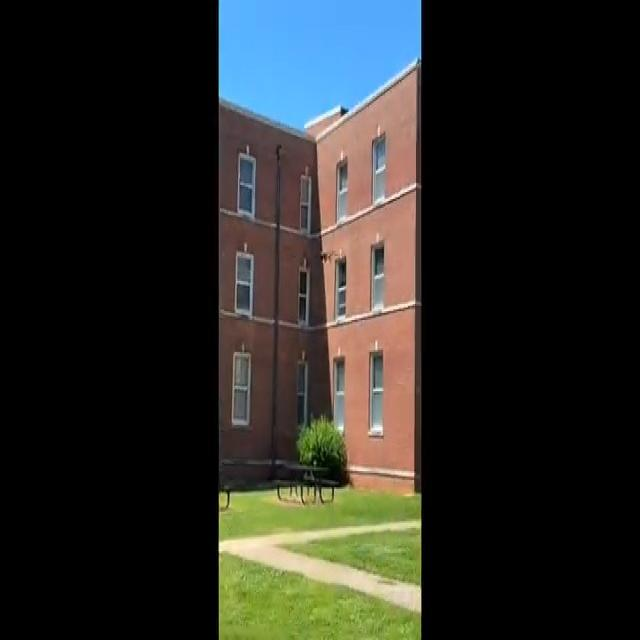drone: (316, 242, 342, 270)
